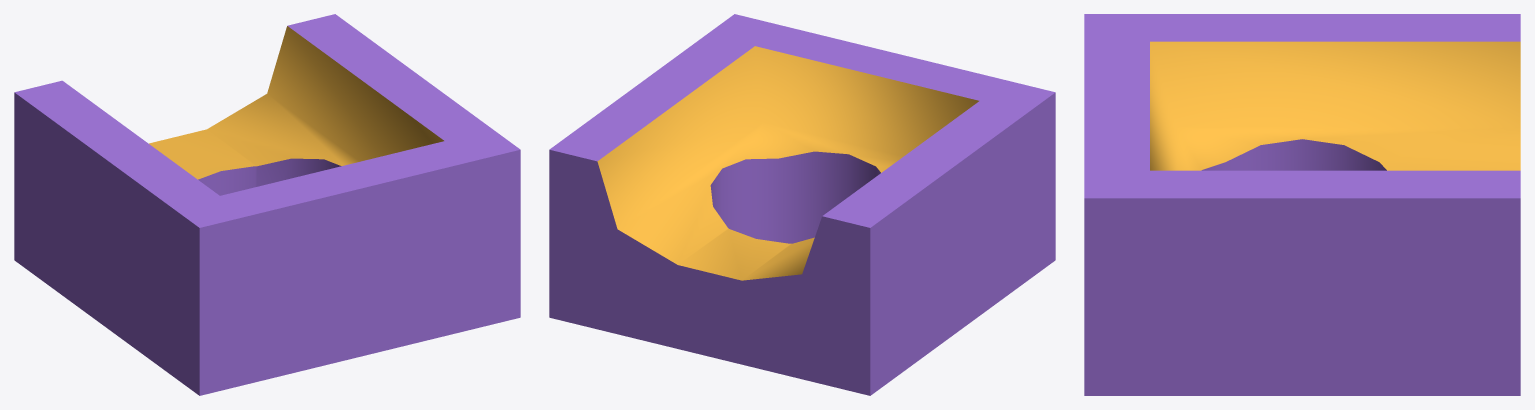
File: kenney-marble-end-hole-square.glb
3 views of the same model, side by side, from view 1: azimuth 30°, elevation 25°; view 2: azimuth 150°, elevation 25°; view 3: azimuth 270°, elevation 25° (orthographic). The views are drawn at different scales.
Visible parts, largest first — view 1: end-hole-square; view 2: end-hole-square; view 3: end-hole-square.
Boxes of the visible parts, left/top/right/bottom form: end-hole-square: left=14, top=14, right=520, bottom=395; end-hole-square: left=549, top=14, right=1055, bottom=395; end-hole-square: left=1084, top=14, right=1520, bottom=395.
Bounding box in the file's own units: 1 × 0.5001 × 1.
1 material, 1 textured.
